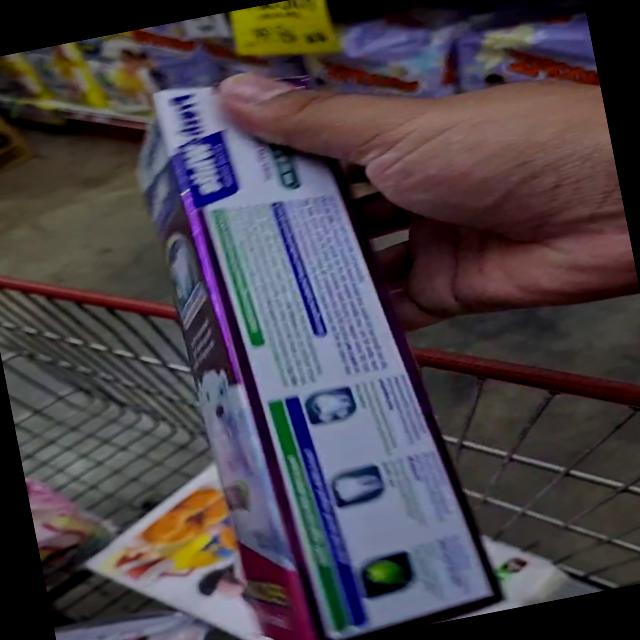Ubat Gigi: (186, 309, 503, 640), (93, 65, 399, 379)
